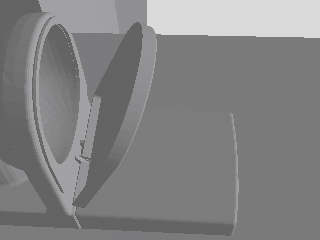lid_1: (73, 21, 156, 207)
